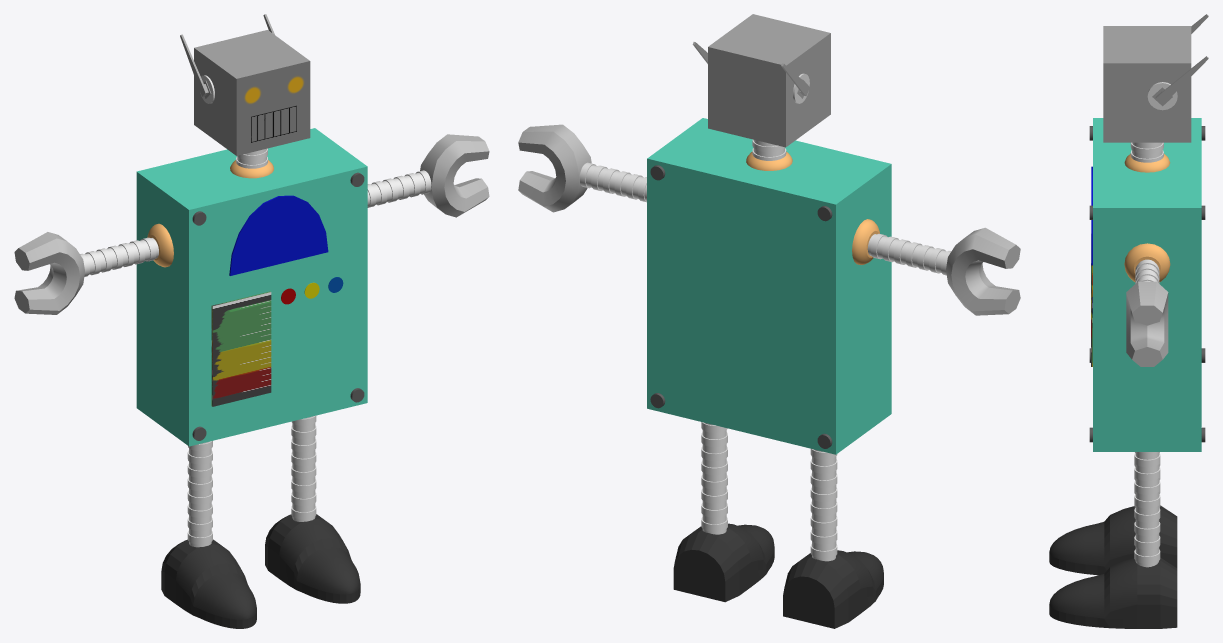
Rendered from robot.fbx.
3 views of the same model, side by side, from view 1: azimuth 30°, elevation 25°; view 2: azimuth 150°, elevation 25°; view 3: azimuth 270°, elevation 25° (orthographic). The views are drawn at different scales.
Visible parts, largest first — view 1: pCube7; view 2: pCube7; view 3: pCube7.
Part boxes in pixels (x1,y1,x2,y2): pCube7: (14, 14, 489, 628); pCube7: (518, 14, 1020, 628); pCube7: (1049, 14, 1208, 628).
Size of the model in its own units: 35.57 by 39.65 by 10.34.
